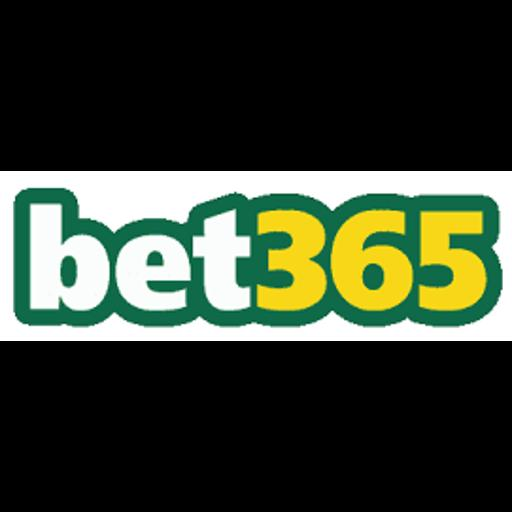Bet365: (0, 171, 512, 341)
